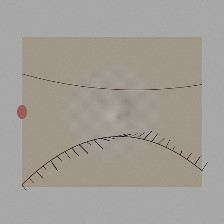corneal_ulcer: (81, 93, 134, 135)
